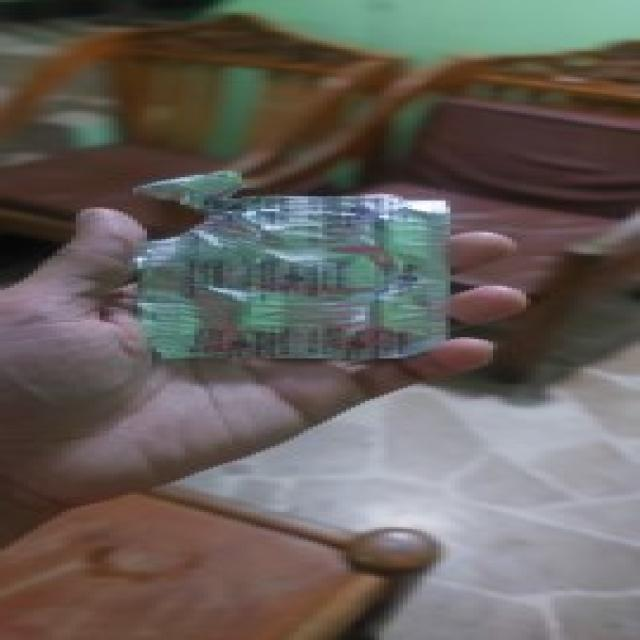Cacat: (124, 167, 453, 359)
Kemasan: (126, 170, 275, 252)
